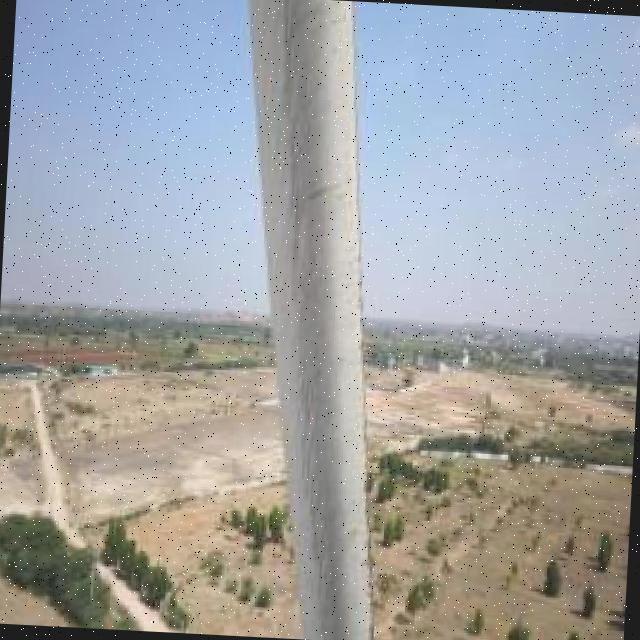Dirt: (271, 1, 373, 640)
